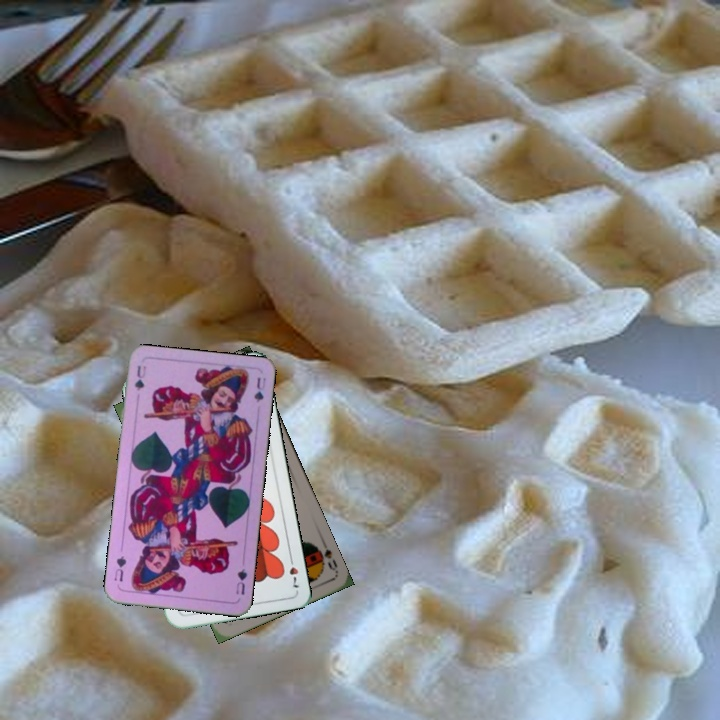GU: (130, 361, 149, 393), (232, 565, 250, 597)
H7: (285, 552, 302, 590)
SO: (310, 535, 340, 574)
